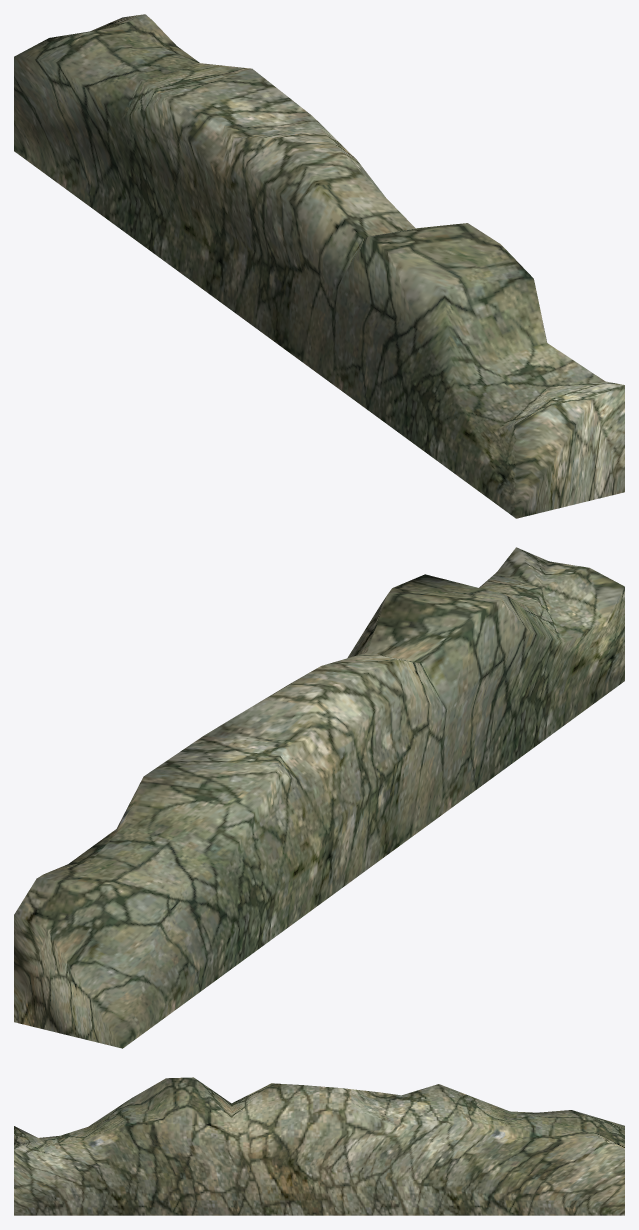
Rendered from thm_nboo_gungan_wall_ruined_sm_s02_l0.fbx.
3 views of the same model, one above another, from view 1: azimuth 30°, elevation 25°; view 2: azimuth 150°, elevation 25°; view 3: azimuth 270°, elevation 25° (orthographic). The views are drawn at different scales.
Visible parts, largest first — view 1: mesh_node; view 2: mesh_node; view 3: mesh_node.
Part boxes in pixels (x1=…): mesh_node: x1=14, y1=14, x2=624, y2=518; mesh_node: x1=14, y1=547, x2=624, y2=1048; mesh_node: x1=14, y1=1077, x2=624, y2=1215.
Bounding box in the file's own units: 0.5 × 0.7686 × 4.
